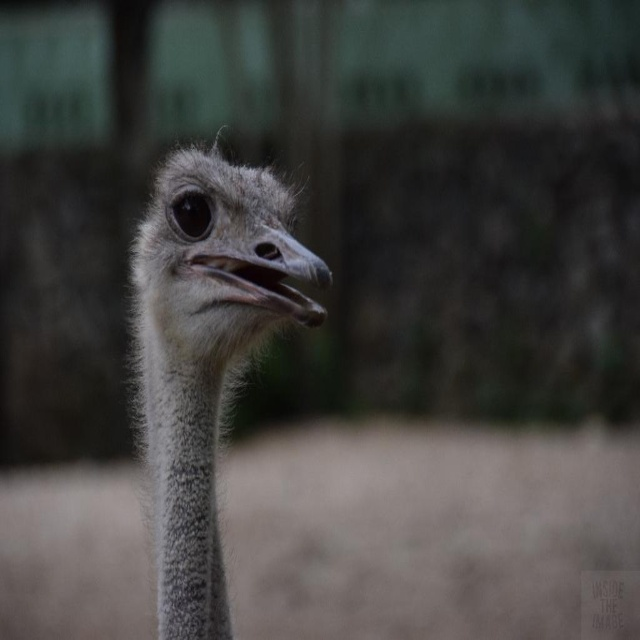Ostrich: (135, 140, 338, 639)
